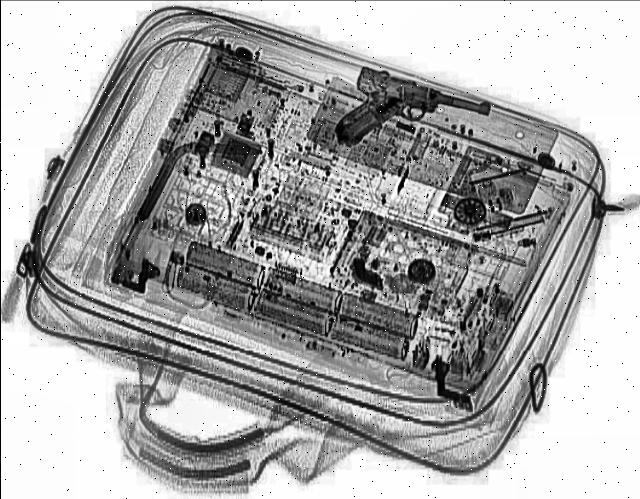Gun: (328, 66, 498, 171)
